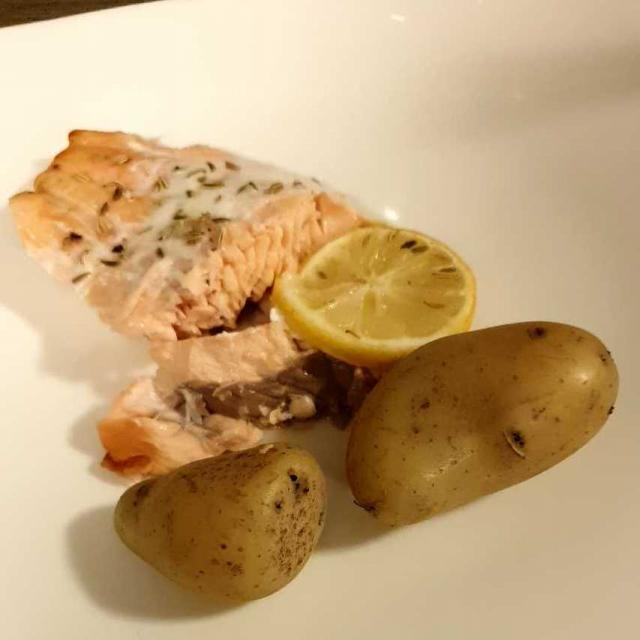lemon: (282, 218, 479, 365)
potatoes: (129, 323, 622, 610)
salmon: (28, 126, 399, 472)
